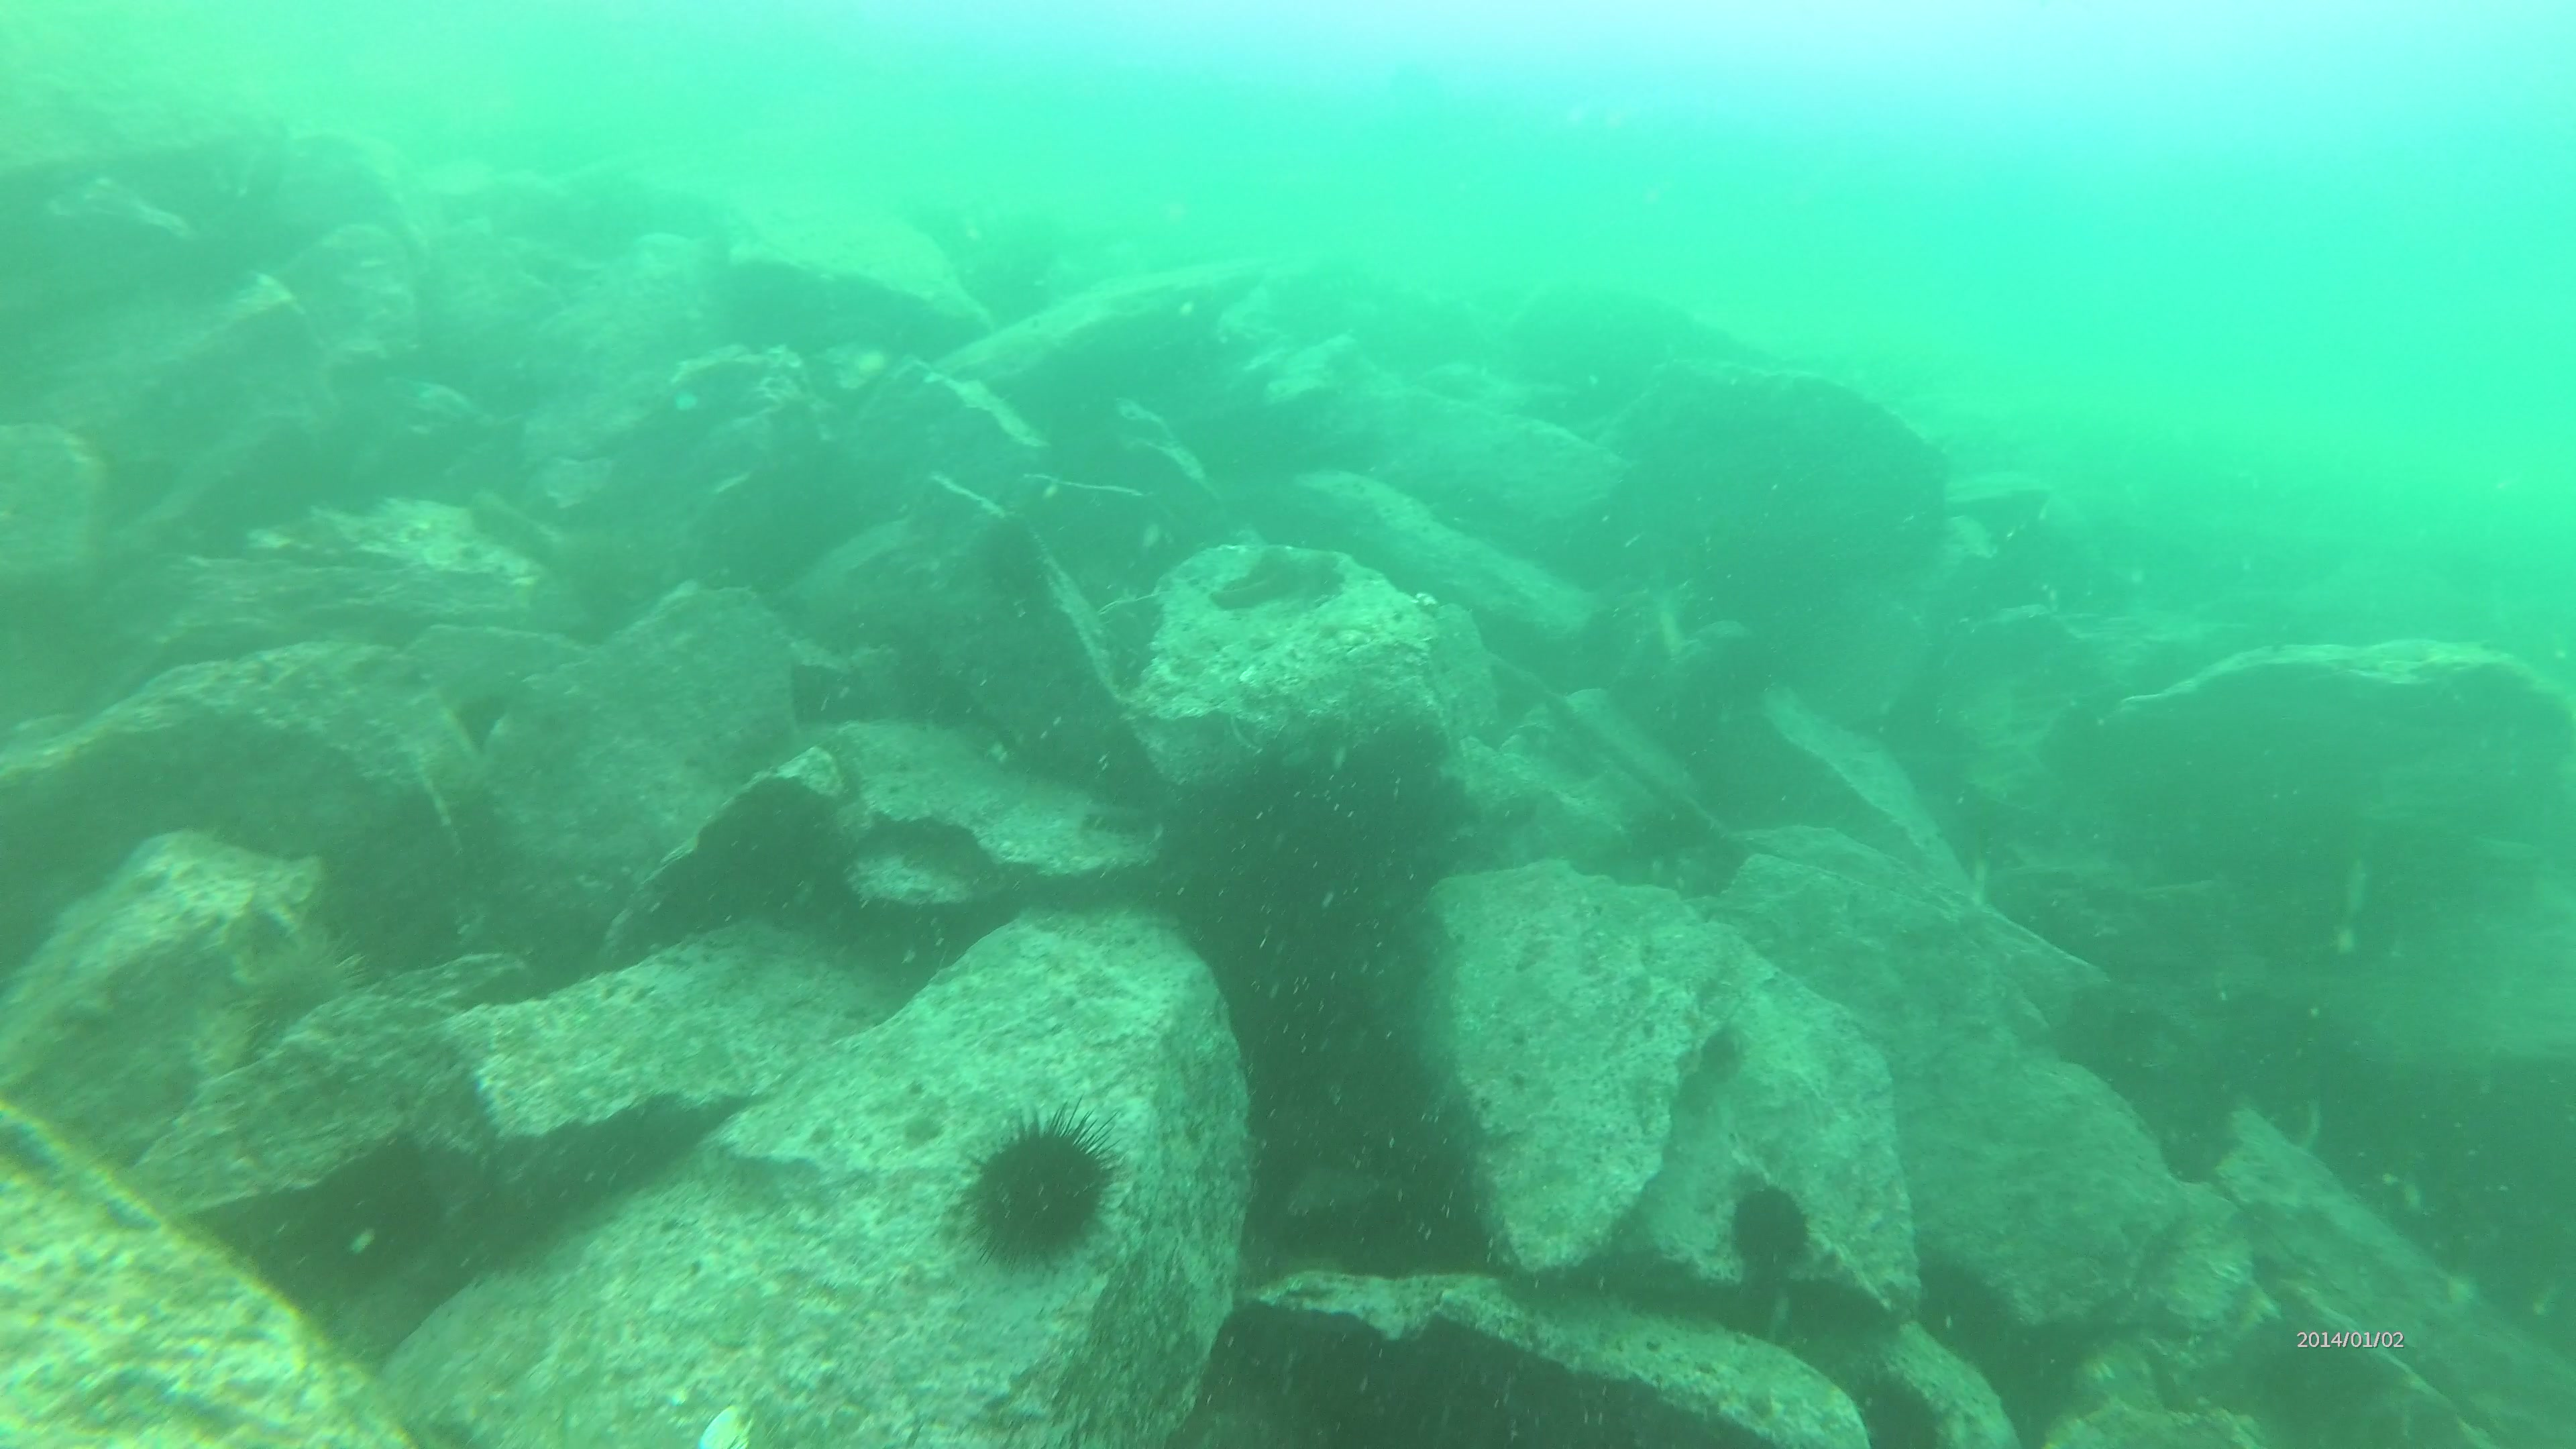echinus: (948, 1116, 1118, 1249), (241, 941, 359, 1024), (1727, 1200, 1824, 1283), (971, 518, 1044, 614)
